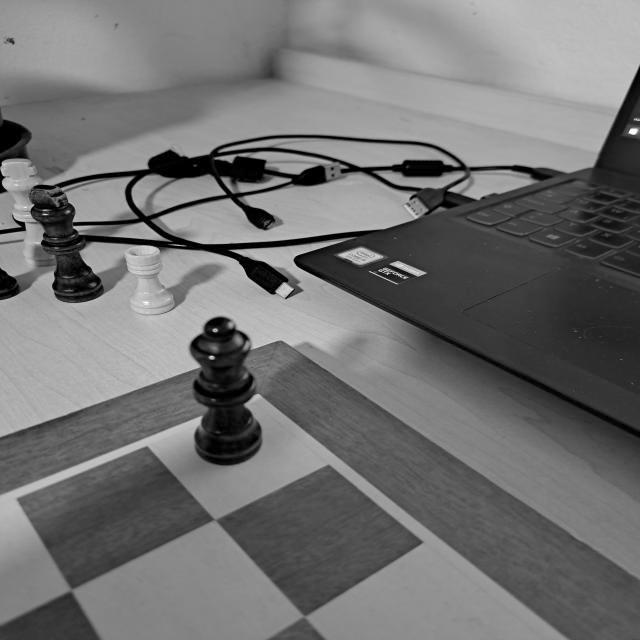chess-table-corners: (195, 375, 312, 437)
